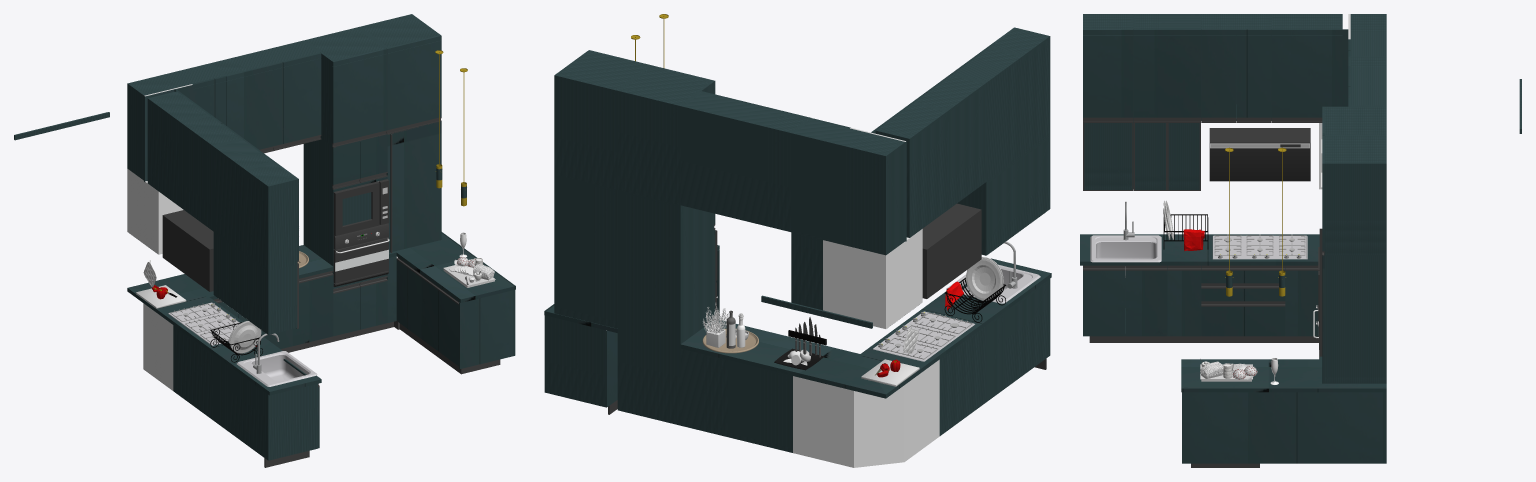
The picture shows the model from 3 angles, left to right: view 1: azimuth 30°, elevation 25°; view 2: azimuth 150°, elevation 25°; view 3: azimuth 270°, elevation 25°; orthographic projection. The views are drawn at different scales.
Visible parts, largest first — view 1: T-432 (WITH 3 SHELVES)R, U-202 (WITHOUT SHELF).015, U-202 (WITHOUT SHELF).001, U-302 (WITHOUT SHELF).003, BEP, T-632-MW (WITH 4 SHELVES).043, L-252-WU.004, U-302 (WITHOUT SHELF).001, 244X64KITT.004, HOOD.2, U-151 (WITHOUT SHELF)L.003, U-202 (WITHOUT SHELF).043 (+49 smaller); view 2: T-632-MW (WITH 4 SHELVES).055, U-302 (WITHOUT SHELF).017, UC-251 (WITHOUT SHELF)L.017, T-432 (WITH 3 SHELVES)R.016, U-202 (WITHOUT SHELF).013, U-202 (WITHOUT SHELF).027, 244X64KITT.003, LC-302 (WITH SHELF).002, T-632-MW (WITH 4 SHELVES).043, LC-351 (WITH SHELF)L.008, UC-202 (WITH SHELF).003, L-202 (WITH SHELF).014 (+36 smaller); view 3: BEP.005, T-432 (WITH 3 SHELVES)R.010, U-202 (WITHOUT SHELF).005, HOOD.2, 244X64KITT.004, U-151 (WITHOUT SHELF)L.001, U-151-G (ALUMINIUM GLASS SHUTTER)L, U-202 (WITHOUT SHELF).029, U-202 (WITHOUT SHELF).045, U-202 (WITHOUT SHELF).047, U-202 (WITHOUT SHELF).061, L-252-WU.002 (+27 smaller).
Boxes of the visible parts, box(x1,y1,x2,y2) form: T-432 (WITH 3 SHELVES)R: box(386, 121, 441, 252); U-202 (WITHOUT SHELF).015: box(332, 54, 387, 143); U-202 (WITHOUT SHELF).001: box(387, 40, 441, 129); U-302 (WITHOUT SHELF).003: box(274, 58, 321, 145); BEP: box(460, 290, 513, 368); T-632-MW (WITH 4 SHELVES).043: box(303, 139, 332, 265); L-252-WU.004: box(267, 384, 317, 460); U-302 (WITHOUT SHELF).001: box(226, 70, 273, 149); 244X64KITT.004: box(389, 232, 515, 302); HOOD.2: box(162, 210, 213, 291); U-151 (WITHOUT SHELF)L.003: box(267, 179, 297, 271); U-202 (WITHOUT SHELF).043: box(148, 101, 179, 204); T-632-MW (WITH 4 SHELVES).055: box(619, 192, 678, 422); U-302 (WITHOUT SHELF).017: box(682, 108, 789, 229); UC-251 (WITHOUT SHELF)L.017: box(793, 135, 883, 252); T-432 (WITH 3 SHELVES)R.016: box(556, 177, 615, 326); U-202 (WITHOUT SHELF).013: box(556, 78, 615, 187); U-202 (WITHOUT SHELF).027: box(619, 93, 678, 202); 244X64KITT.003: box(680, 319, 885, 398); LC-302 (WITH SHELF).002: box(793, 376, 853, 467); T-632-MW (WITH 4 SHELVES).043: box(678, 205, 713, 425); LC-351 (WITH SHELF)L.008: box(547, 316, 604, 406); UC-202 (WITH SHELF).003: box(824, 240, 885, 328); L-202 (WITH SHELF).014: box(730, 362, 789, 449); BEP.005: box(1182, 392, 1386, 463); T-432 (WITH 3 SHELVES)R.010: box(1324, 255, 1386, 383); U-202 (WITHOUT SHELF).005: box(1324, 162, 1386, 255); HOOD.2: box(1209, 128, 1310, 181); 244X64KITT.004: box(1181, 356, 1386, 392); U-151 (WITHOUT SHELF)L.001: box(1083, 35, 1133, 117); U-151-G (ALUMINIUM GLASS SHUTTER)L: box(1084, 123, 1132, 189); U-202 (WITHOUT SHELF).029: box(1272, 35, 1307, 117); U-202 (WITHOUT SHELF).045: box(1201, 35, 1236, 117); U-202 (WITHOUT SHELF).047: box(1236, 35, 1271, 117); U-202 (WITHOUT SHELF).061: box(1133, 35, 1167, 117); L-252-WU.002: box(1125, 270, 1167, 336).
Bounding box in the file's own units: 3.81 × 3.03 × 3.93.
Materials: 106 (5 with a texture image).
